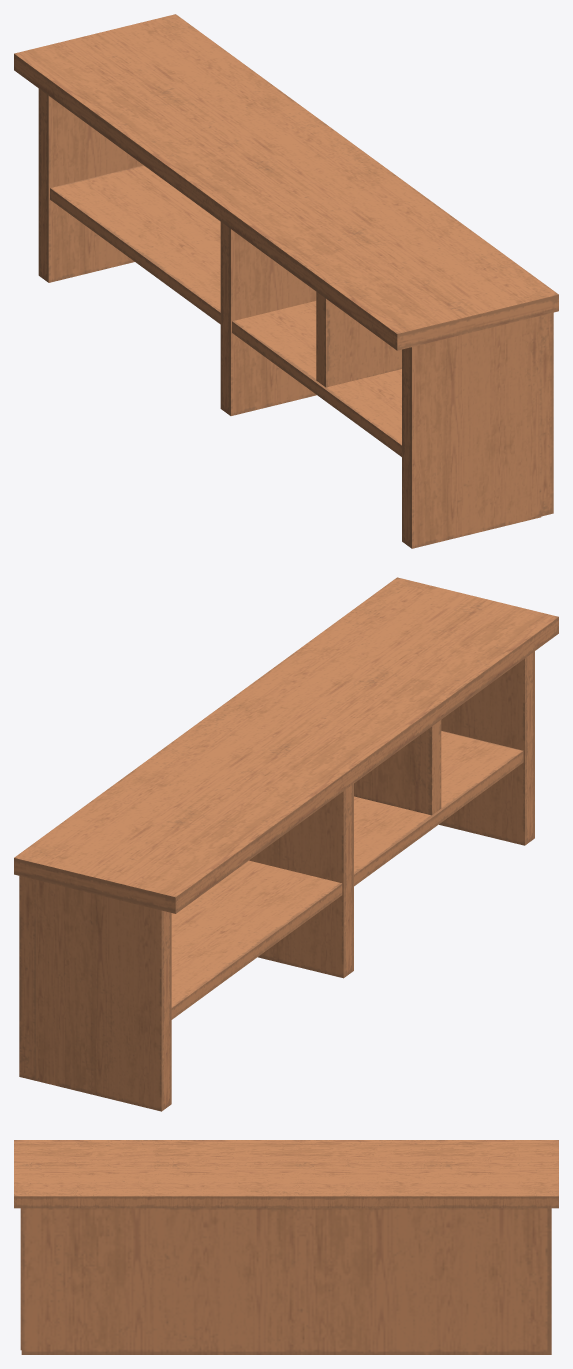
Rendered from SM_Shelf_B1.fbx.
3 renders of one model, top to bottom at view 1: azimuth 30°, elevation 25°; view 2: azimuth 150°, elevation 25°; view 3: azimuth 270°, elevation 25°, orthographic. The views are drawn at different scales.
Visible parts, largest first — view 1: SM_Shelf_B1; view 2: SM_Shelf_B1; view 3: SM_Shelf_B1.
Boxes of the visible parts, x1,y1,x2,y2 form: SM_Shelf_B1: (14, 14, 558, 548); SM_Shelf_B1: (14, 577, 558, 1111); SM_Shelf_B1: (14, 1140, 558, 1354).
Size of the model in its own units: 45.28 by 186 by 59.6.
Materials: 1 (1 with a texture image).
